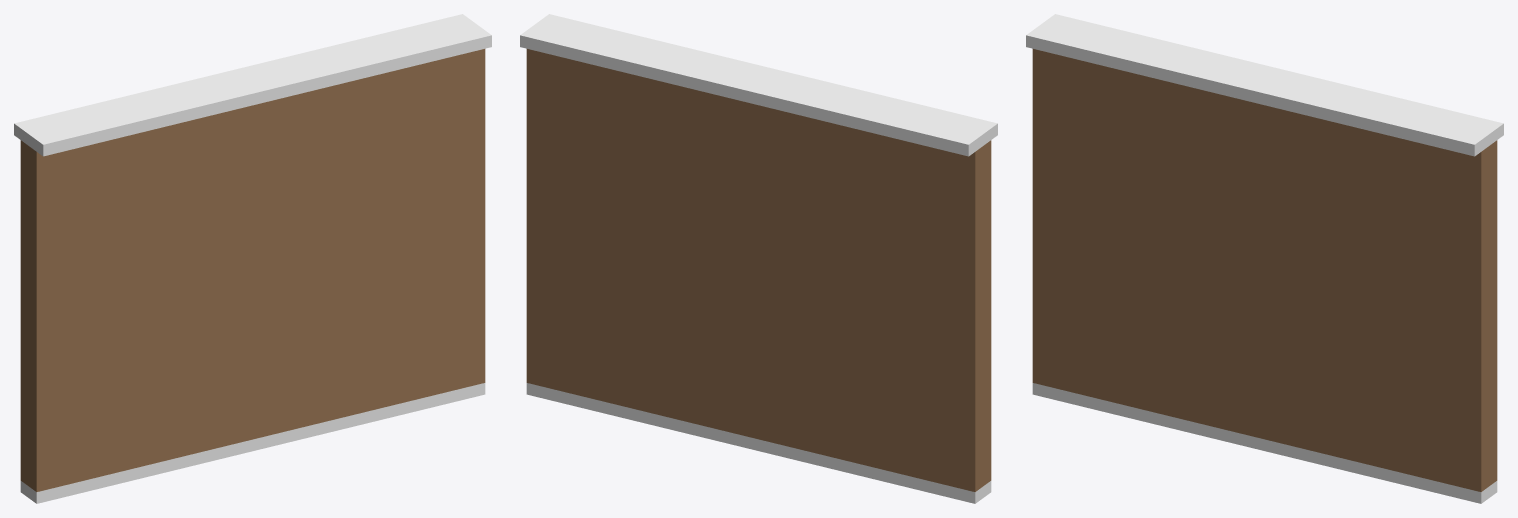
File: SM_400x300_Wall.fbx
3 views of the same model, side by side, from view 1: azimuth 30°, elevation 25°; view 2: azimuth 150°, elevation 25°; view 3: azimuth 330°, elevation 25° (orthographic).
Parts seen in each view (by area): view 1: SM_400x300_BasicWall; view 2: SM_400x300_BasicWall; view 3: SM_400x300_BasicWall.
Part boxes in pixels (box(x1,y1,x2,y2)): SM_400x300_BasicWall: box(14, 14, 491, 503); SM_400x300_BasicWall: box(520, 14, 997, 503); SM_400x300_BasicWall: box(1026, 14, 1503, 503).
Size of what is drawn, in the model's own units: 400 by 45 by 310.
